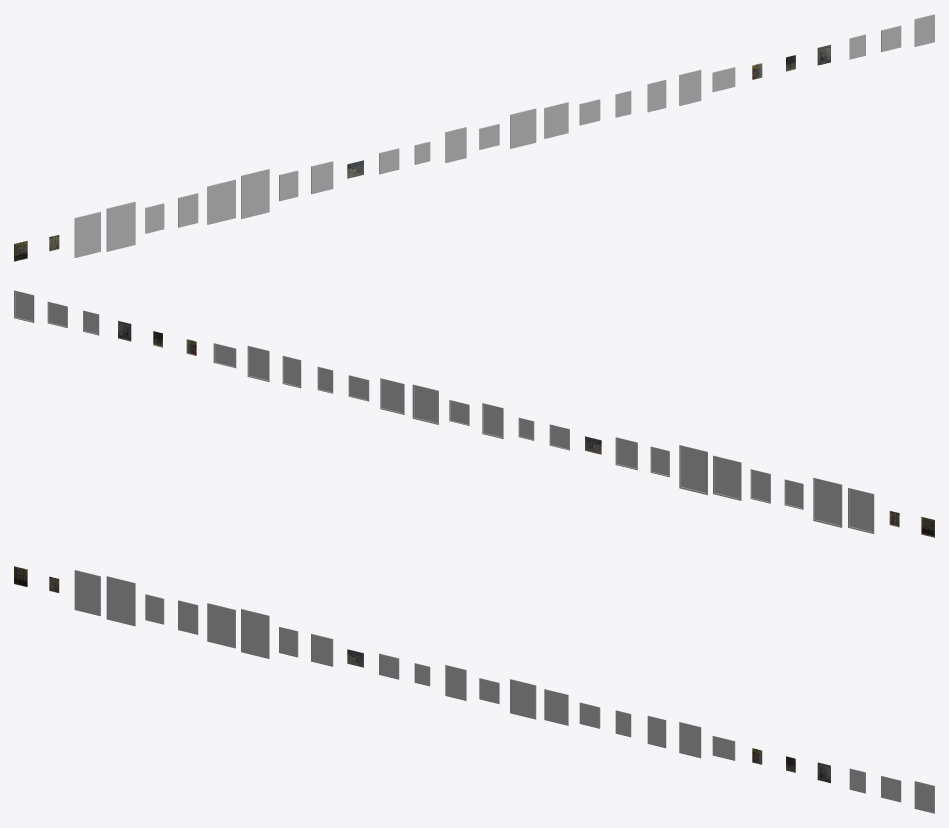
The model's file is Paintings.fbx.
3 views of the same model, one above another, from view 1: azimuth 30°, elevation 25°; view 2: azimuth 150°, elevation 25°; view 3: azimuth 330°, elevation 25° (orthographic).
Parts seen in each view (by area): view 1: Träd, Träd 2, Vägg 12, Vägg 6, Bråte, Dörr 2, Vägg 7, Vägg, Stadsvy, Dörr, Vägg 5, Träd 3 (+2 smaller); view 2: Träd, Träd 2, Vägg 12, Vägg 6, Bråte, Dörr 2, Vägg 7, Vägg, Stadsvy, Dörr, Vägg 5, Träd 3 (+2 smaller); view 3: Träd, Träd 2, Vägg 12, Vägg 6, Bråte, Dörr 2, Vägg 7, Vägg, Stadsvy, Dörr, Vägg 5, Träd 3 (+2 smaller).
Boxes of the visible parts, x1,y1,x2,y2 form: Träd: (106,201,135,251); Träd 2: (241,169,269,218); Vägg 12: (207,179,235,224); Vägg 6: (74,211,100,257); Bråte: (510,108,536,148); Dörr 2: (544,102,568,138); Vägg 7: (679,69,701,105); Vägg: (445,127,466,162); Stadsvy: (311,161,333,194); Dörr: (178,193,198,227); Vägg 5: (914,14,934,46); Träd 3: (647,79,666,112); Träd: (813,477,842,527); Träd 2: (679,445,707,495); Vägg 12: (713,455,741,500); Vägg 6: (848,487,874,533); Bråte: (412,384,438,424); Dörr 2: (380,378,404,414); Vägg 7: (247,345,269,381); Vägg: (482,403,503,438); Stadsvy: (615,437,637,470); Dörr: (750,469,770,503); Vägg 5: (14,290,34,322); Träd 3: (282,355,301,388); Träd: (106,576,135,626); Träd 2: (241,608,269,658); Vägg 12: (207,603,235,648); Vägg 6: (74,570,100,616); Bråte: (510,679,536,719); Dörr 2: (544,689,568,725); Vägg 7: (679,722,701,758); Vägg: (445,665,466,700); Stadsvy: (311,633,333,666); Dörr: (178,600,198,634); Vägg 5: (914,781,934,813); Träd 3: (647,715,666,748).
Size of the model in its own units: 1375 by 61.75 by 1.02.
